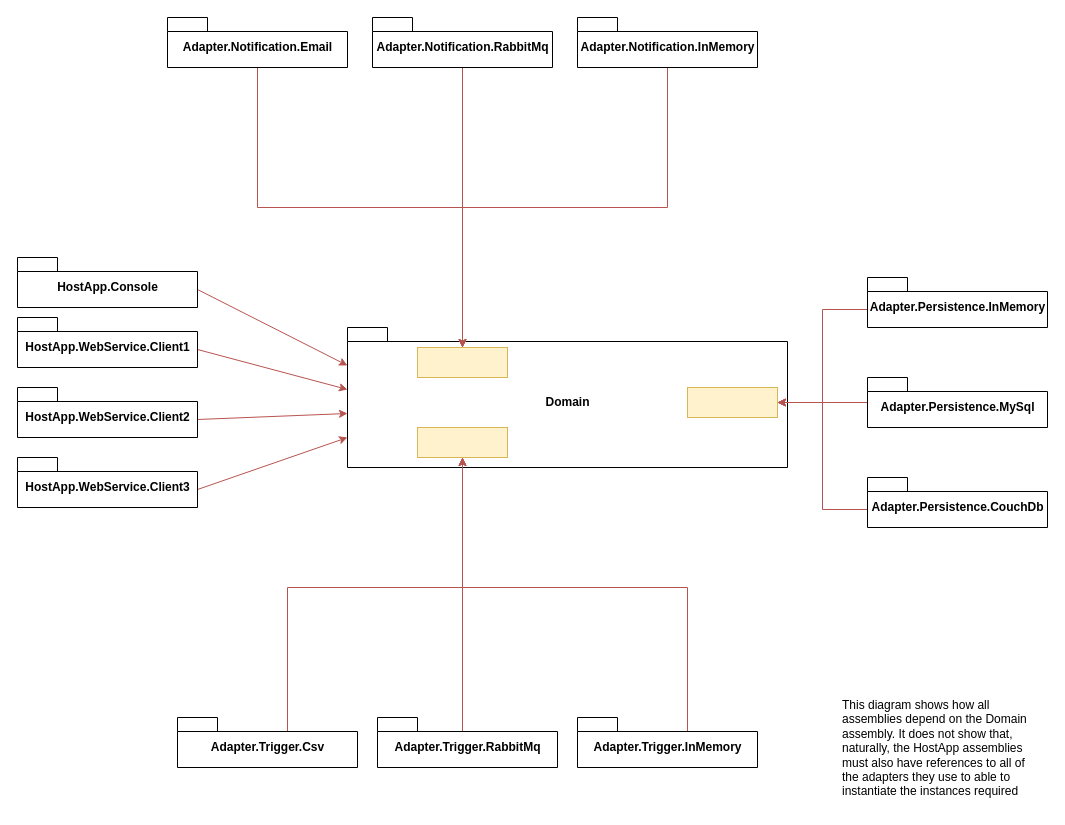
Image size: 1065x825. Some labels were removed from this diagram. Each missing label, with the centre of its shape:
"Notification Ports" belongs at [462,362].
"Persistence Ports" belongs at [732,402].
"UseCases" belongs at [462,442].
